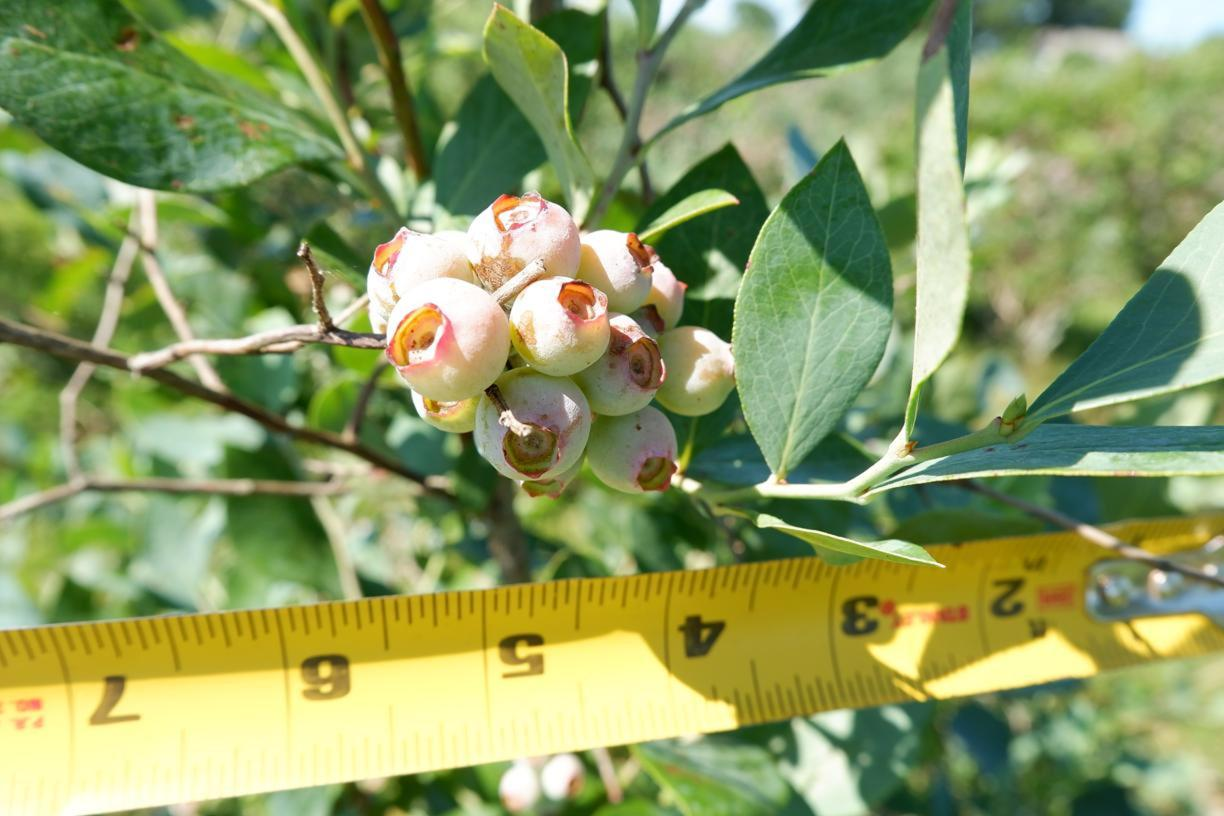Immature: (384, 277, 512, 400), (464, 191, 583, 307), (473, 366, 591, 480), (508, 275, 611, 376), (566, 311, 664, 416), (367, 225, 473, 319), (587, 404, 679, 493), (657, 326, 736, 416), (574, 229, 651, 313), (642, 243, 687, 334), (512, 447, 585, 496), (411, 389, 483, 431), (628, 303, 666, 338), (431, 231, 467, 254)
